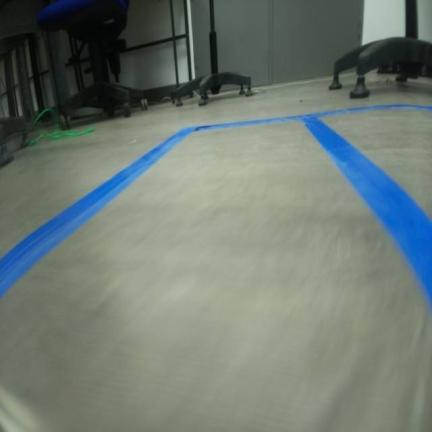place: (0, 112, 431, 431), (297, 102, 431, 307)
